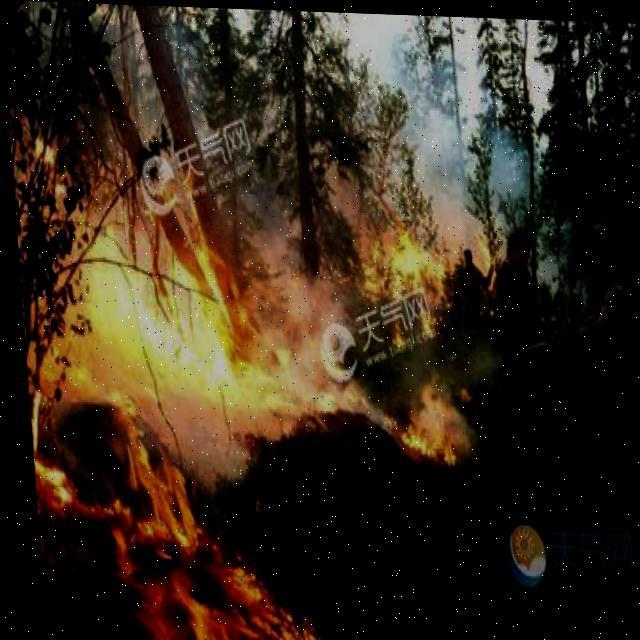Fire: (9, 99, 476, 639)
